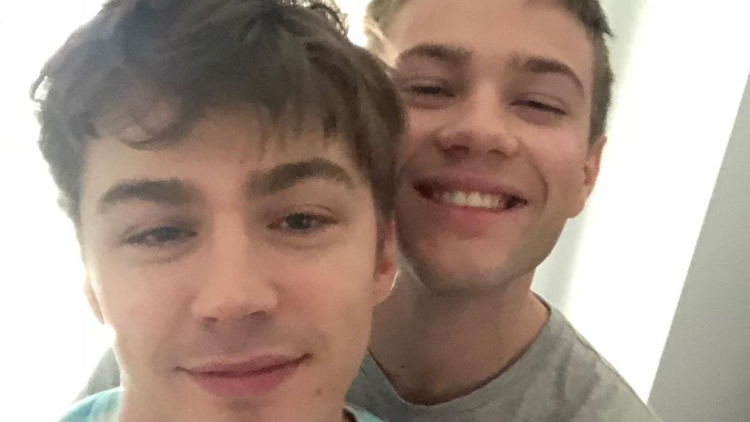bare: (88, 258, 374, 422), (394, 120, 574, 293)
